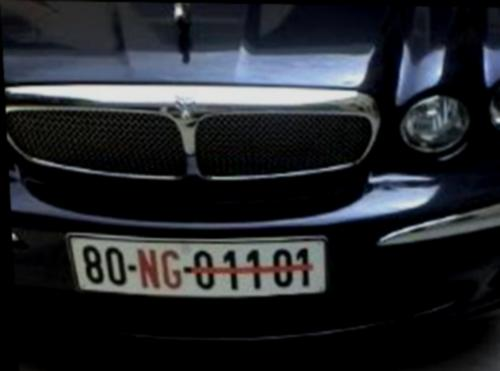License_Plate: (59, 225, 334, 302)
